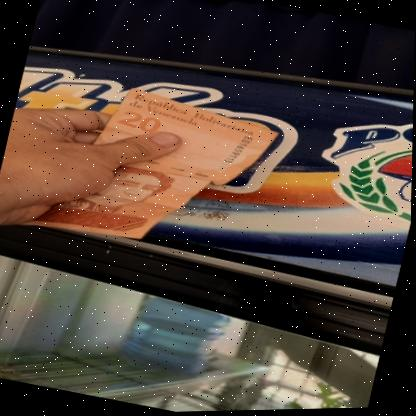twenty-front-vef: (19, 67, 285, 274)
